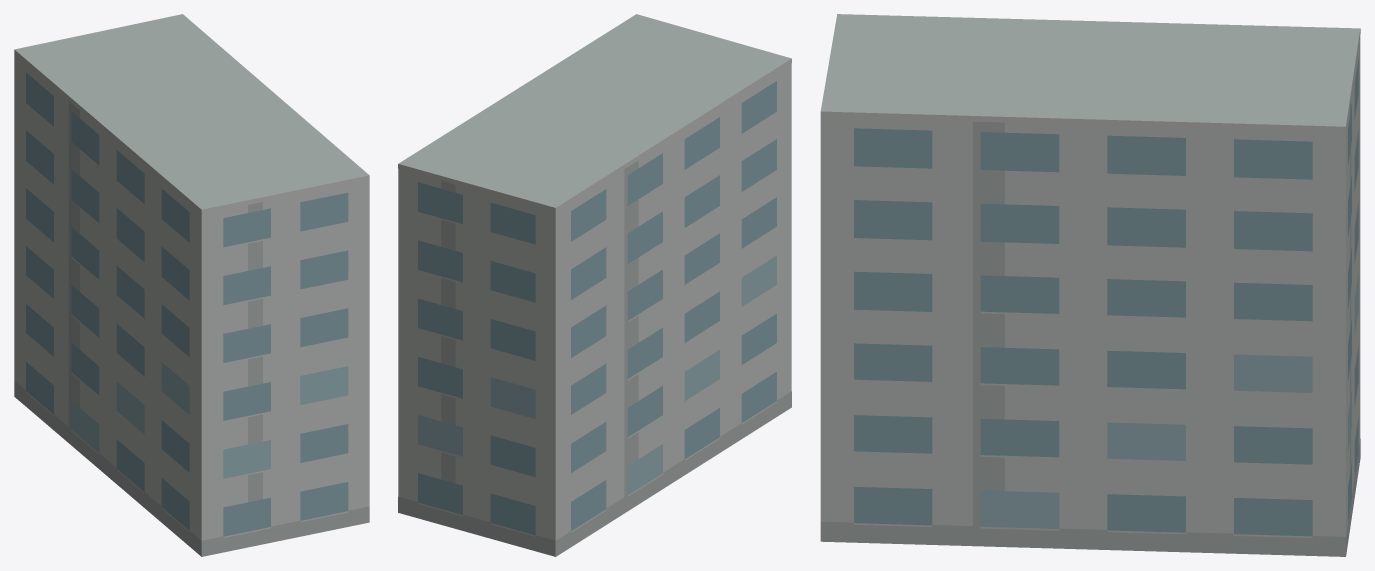
File: survey-upis-33015788.glb
3 views of the same model, side by side, from view 1: azimuth 30°, elevation 25°; view 2: azimuth 150°, elevation 25°; view 3: azimuth 270°, elevation 25° (orthographic). The views are drawn at different scales.
Visible parts, largest first — view 1: survey-upis-33015788.tmp; view 2: survey-upis-33015788.tmp; view 3: survey-upis-33015788.tmp.
Part boxes in pixels (left/top/right/bottom): survey-upis-33015788.tmp: left=14, top=14, right=369, bottom=556; survey-upis-33015788.tmp: left=398, top=14, right=791, bottom=556; survey-upis-33015788.tmp: left=820, top=14, right=1360, bottom=556.
Size of the model in its own units: 10.12 by 18 by 20.48.
